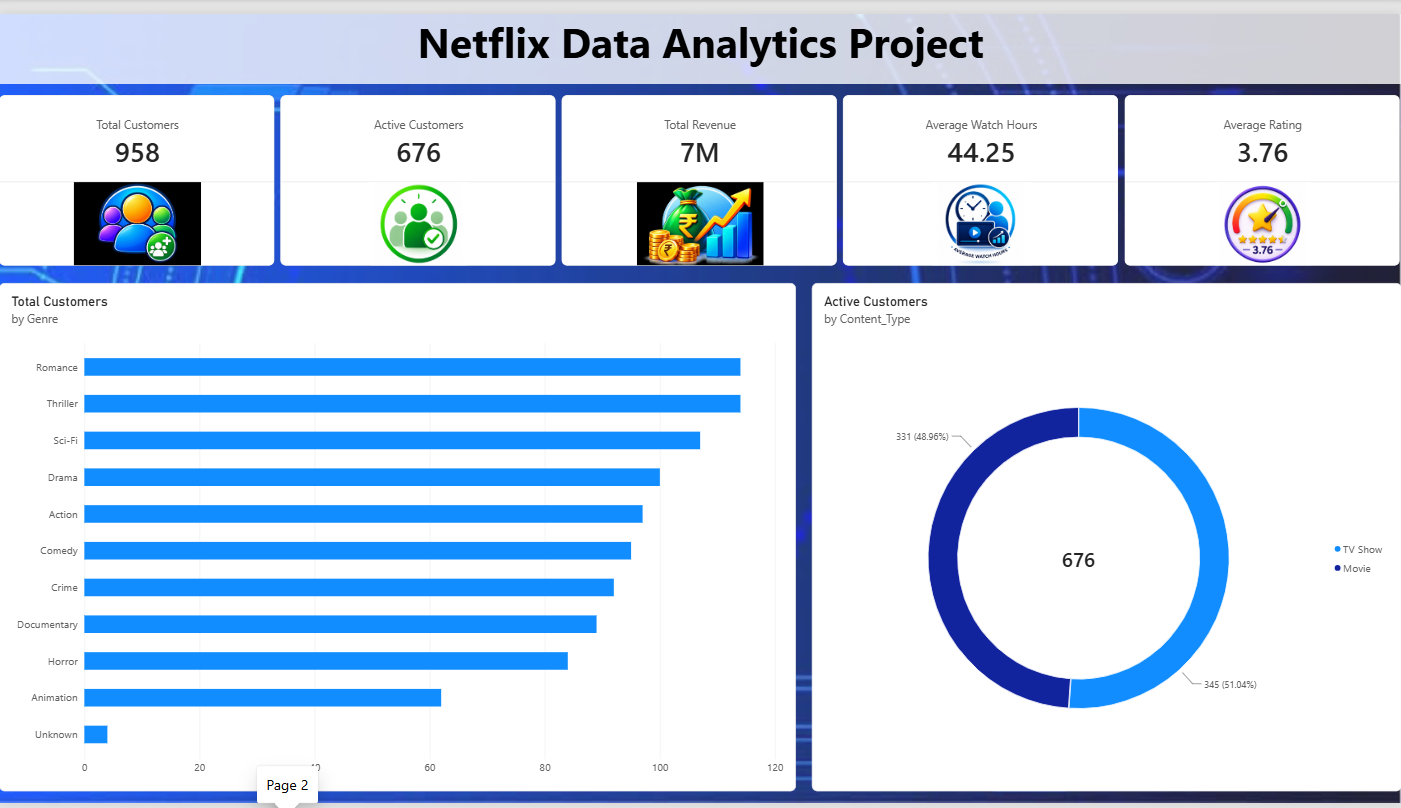

The page's visual inventory and layout, read from the dashboard file:
{"tool":"powerbi","page":{"name":"Page 2","canvas":[1920,1080],"ordinal":1},"visuals":[{"type":"cardVisual","fields":{"Data":["Dax Measures.Total Customers","Dax Measures.Active Customers","Dax Measures.Total Revenue","Dax Measures.Average Watch Hours","Dax Measures.Average Rating"]},"box":[0,110.7,1920.1,234.1],"z":0},{"type":"textbox","box":[0,0,1920.1,96.1],"z":1000},{"type":"clusteredBarChart","fields":{"Category":["netflix_customers.Genre"],"Y":["Dax Measures.Total Customers"]},"box":[0,368.1,1091.2,695.4],"z":2000},{"type":"donutChart","fields":{"Category":["netflix_customers.Content_Type"],"Y":["Dax Measures.Active Customers"]},"box":[1112.3,368.1,807.8,695.4],"z":3000}]}

Visuals, with their boxes on the page's 1920x1080 design canvas (x1, y1, x2, y2). These are canvas units, not pixel positions in the 1401x808 screenshot, which may show the page scaled, cropped or inside an application window:
cardVisual - Dax Measures.Total Customers x Dax Measures.Active Customers: bbox=[0, 111, 1920, 345]
textbox: bbox=[0, 0, 1920, 96]
clusteredBarChart - netflix_customers.Genre x Dax Measures.Total Customers: bbox=[0, 368, 1091, 1064]
donutChart - netflix_customers.Content_Type x Dax Measures.Active Customers: bbox=[1112, 368, 1920, 1064]
